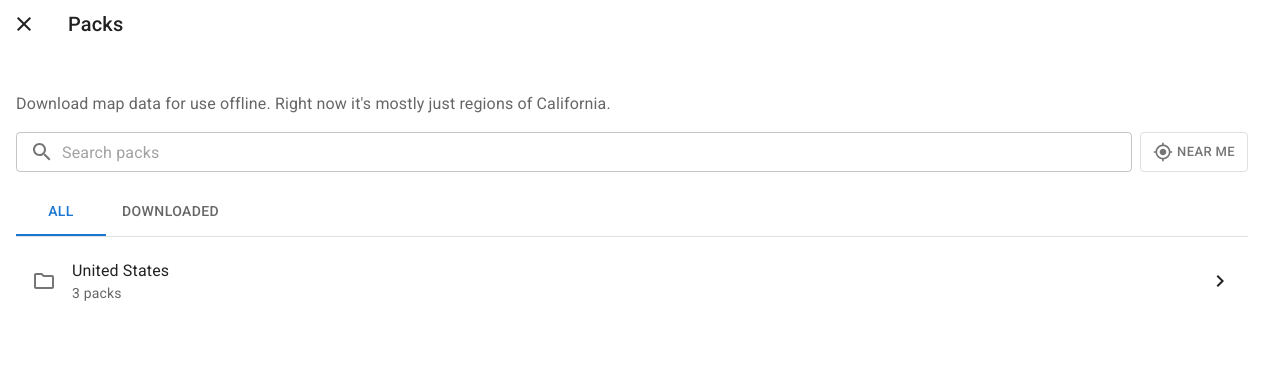
Packs › when packs are nested › shows how many packs are within a pack on its button
Click the text "United States": (121, 270) [72,261,169,280]
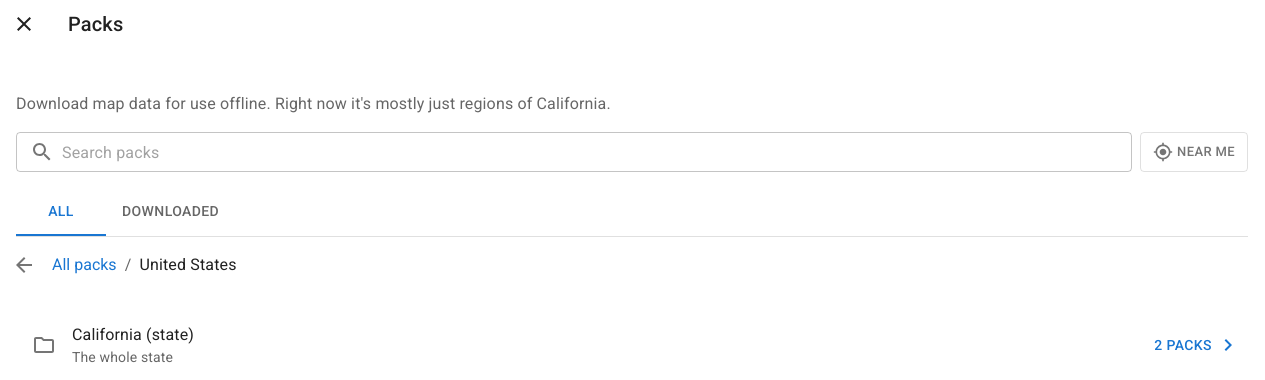
Result: the text "2 packs" is shown at [1154,333,1212,357]
